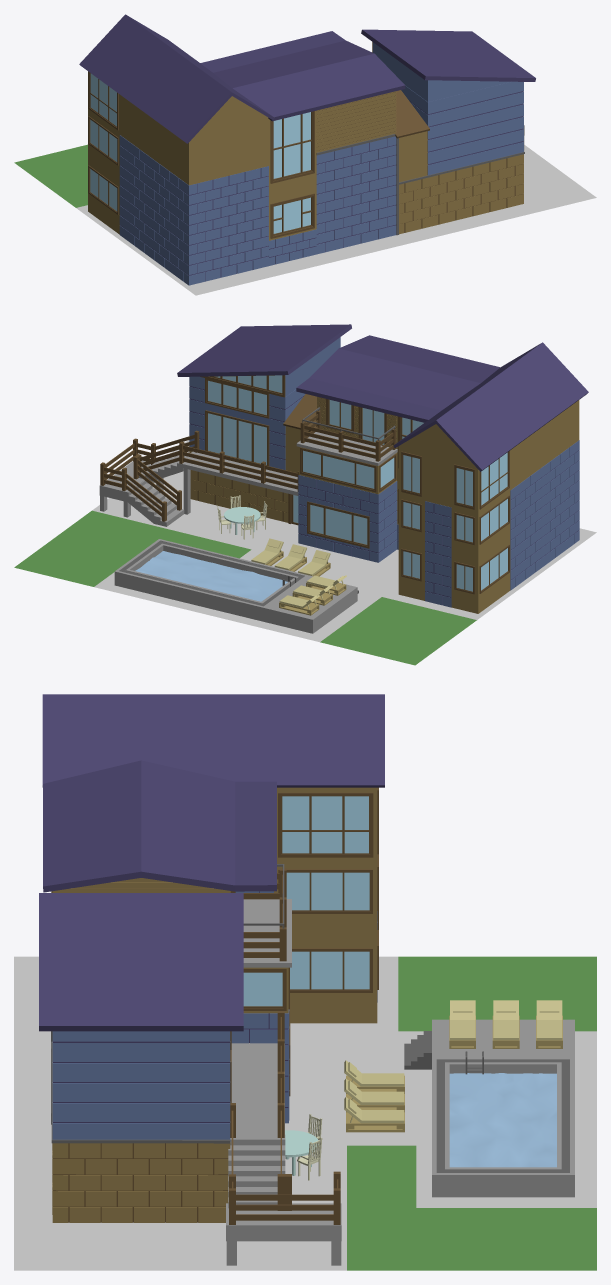
The model's file is hotel.glb.
3 views of the same model, one above another, from view 1: azimuth 30°, elevation 25°; view 2: azimuth 150°, elevation 25°; view 3: azimuth 270°, elevation 25° (orthographic). The views are drawn at different scales.
Parts seen in each view (by area): view 1: building.059; view 2: building.059; view 3: building.059.
Boxes of the visible parts, left/top/right/bottom form: building.059: left=14, top=14, right=596, bottom=295; building.059: left=14, top=324, right=596, bottom=665; building.059: left=14, top=694, right=596, bottom=1270.
Bounding box in the file's own units: 25.25 × 11.19 × 19.77.
Materials: 1 (1 with a texture image).
